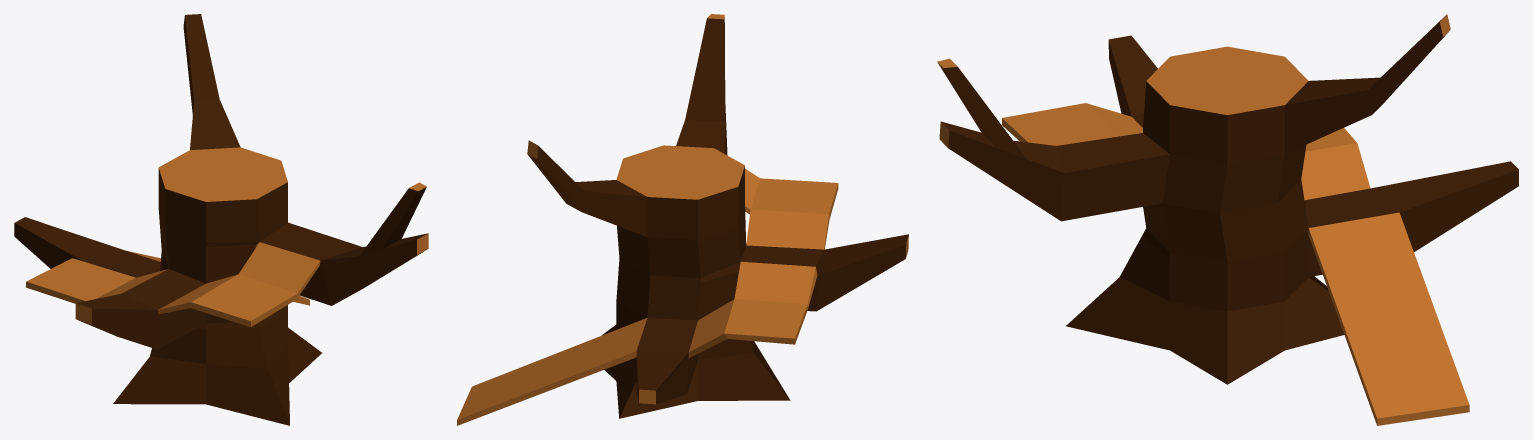
The model's file is treestump_001.FBX.
The picture shows the model from 3 angles, left to right: view 1: azimuth 30°, elevation 25°; view 2: azimuth 150°, elevation 25°; view 3: azimuth 270°, elevation 25°; orthographic projection. The views are drawn at different scales.
Visible parts, largest first — view 1: Box004; view 2: Box004; view 3: Box004.
Part boxes in pixels (<box>): Box004: <box>14,14,428,425</box>; Box004: <box>457,14,908,425</box>; Box004: <box>937,14,1518,425</box>.
Size of the model in its own units: 17.35 by 14.48 by 21.49.
